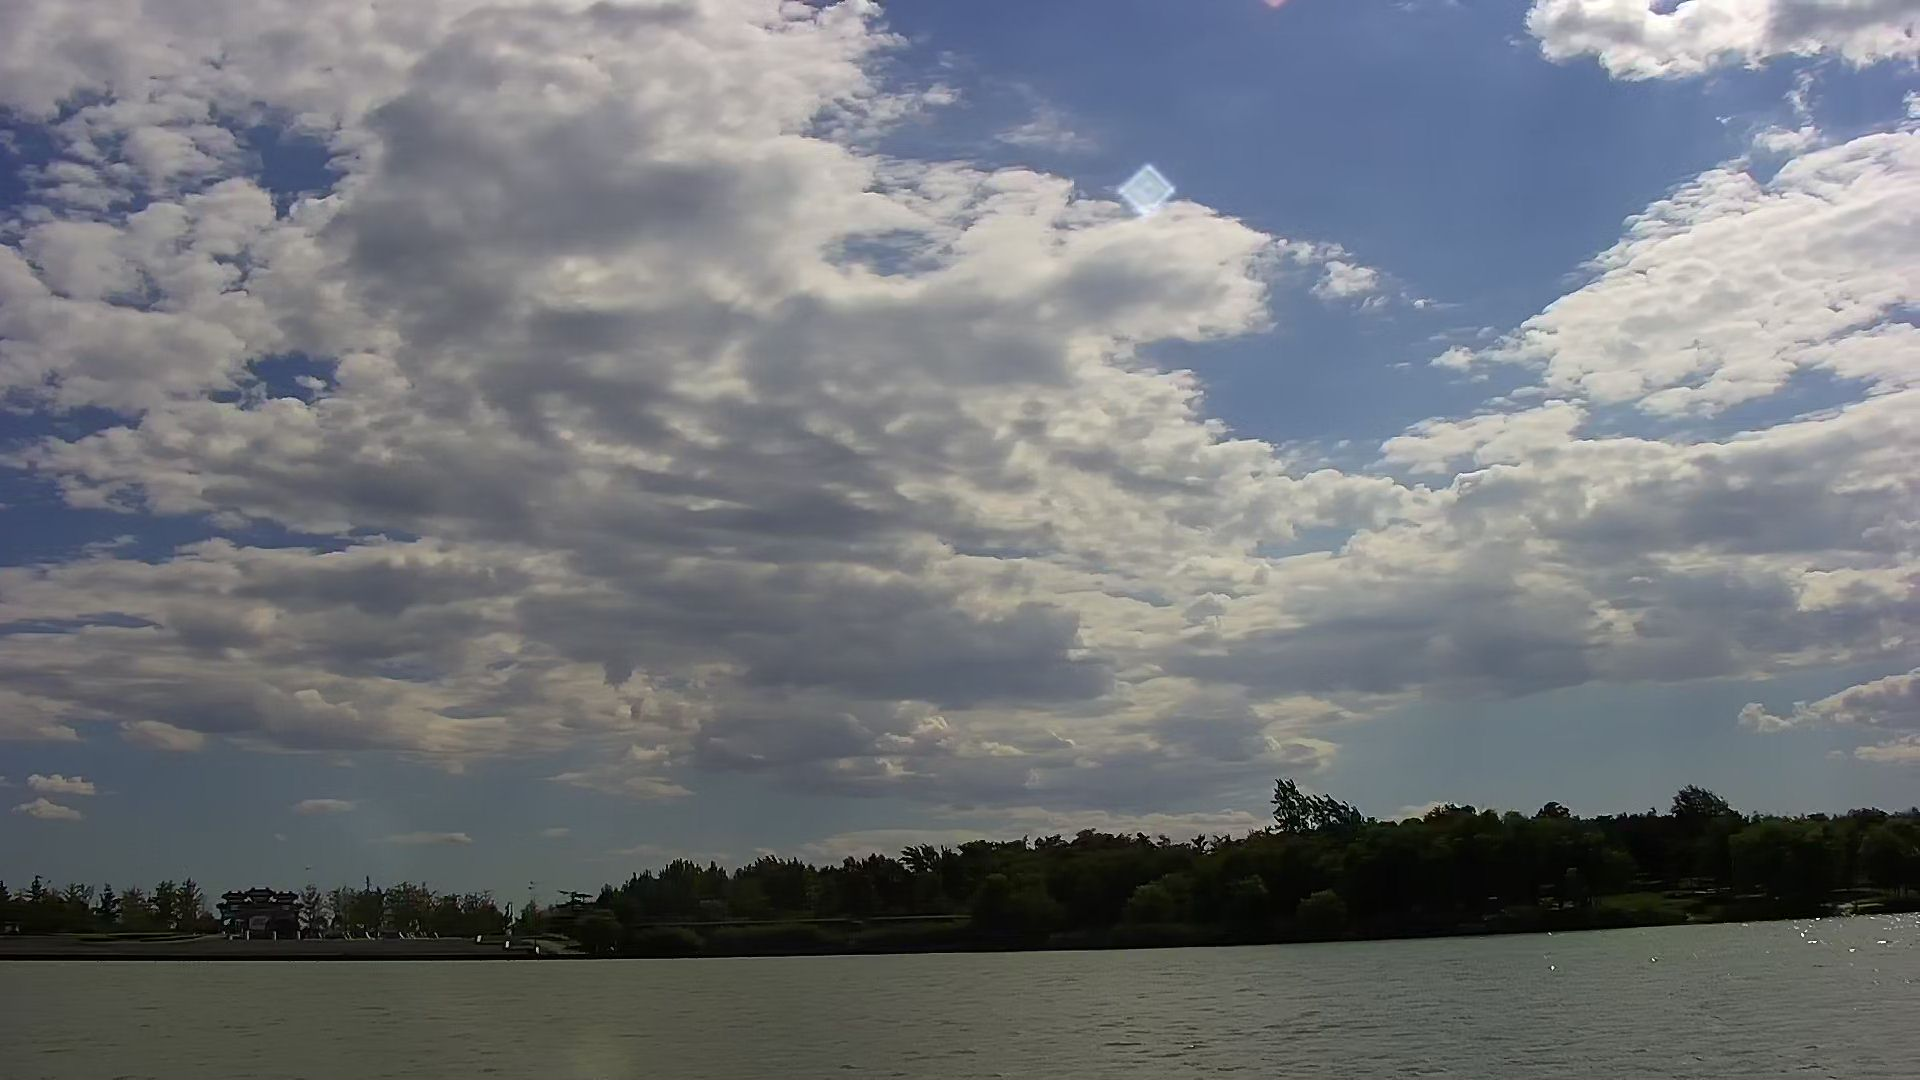harbor: (28, 928, 588, 968)
